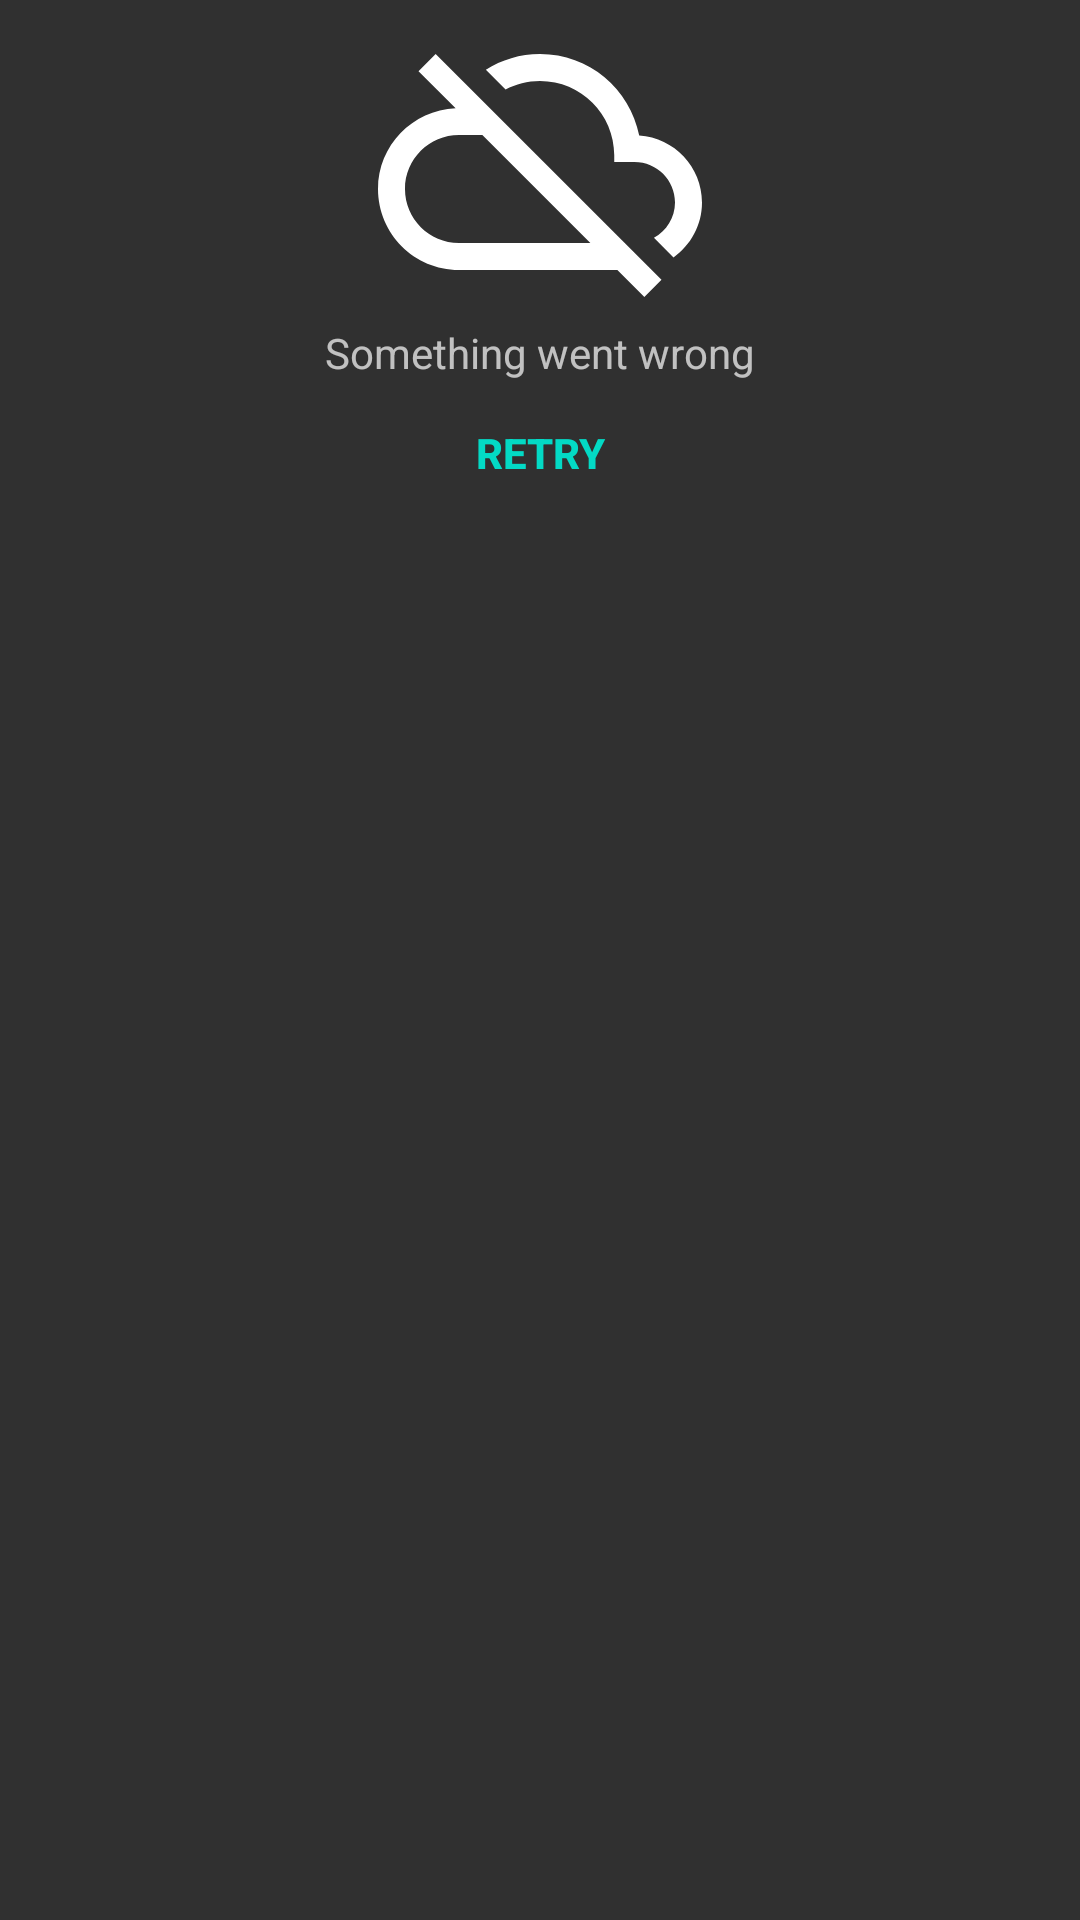

Point at icon controls on the screen. Image size 1080 x 1920, points as point (x, y).
cloud off: point (540, 175)
